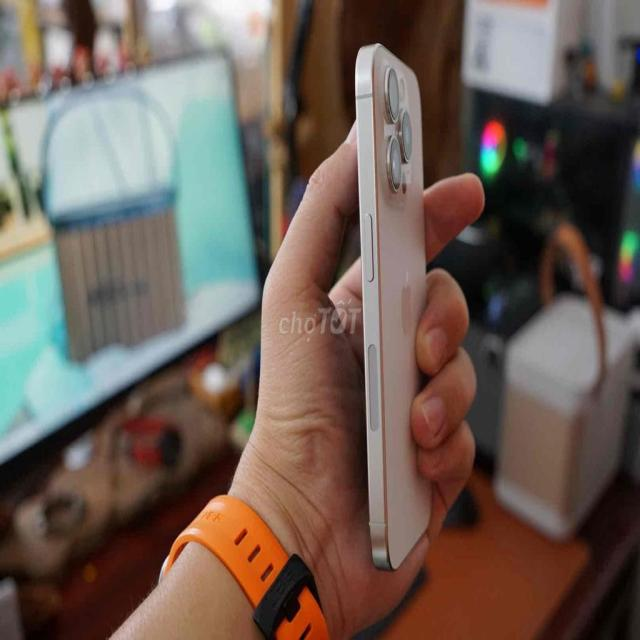gen_15: (346, 32, 446, 573)
